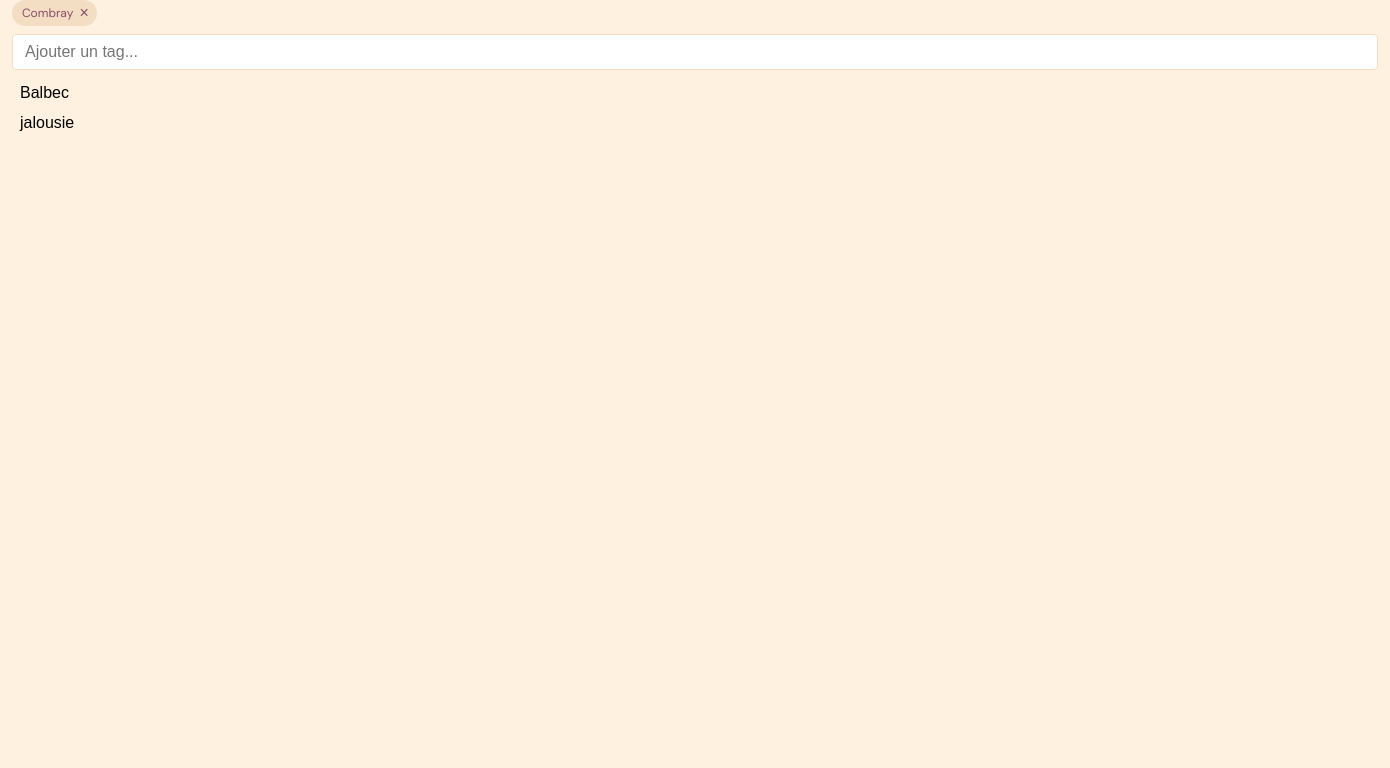
Test: shows an error toast when removing a tag fails
Click the button named "Retirer Combray".
click(84, 13)  # box [77,5,91,21]
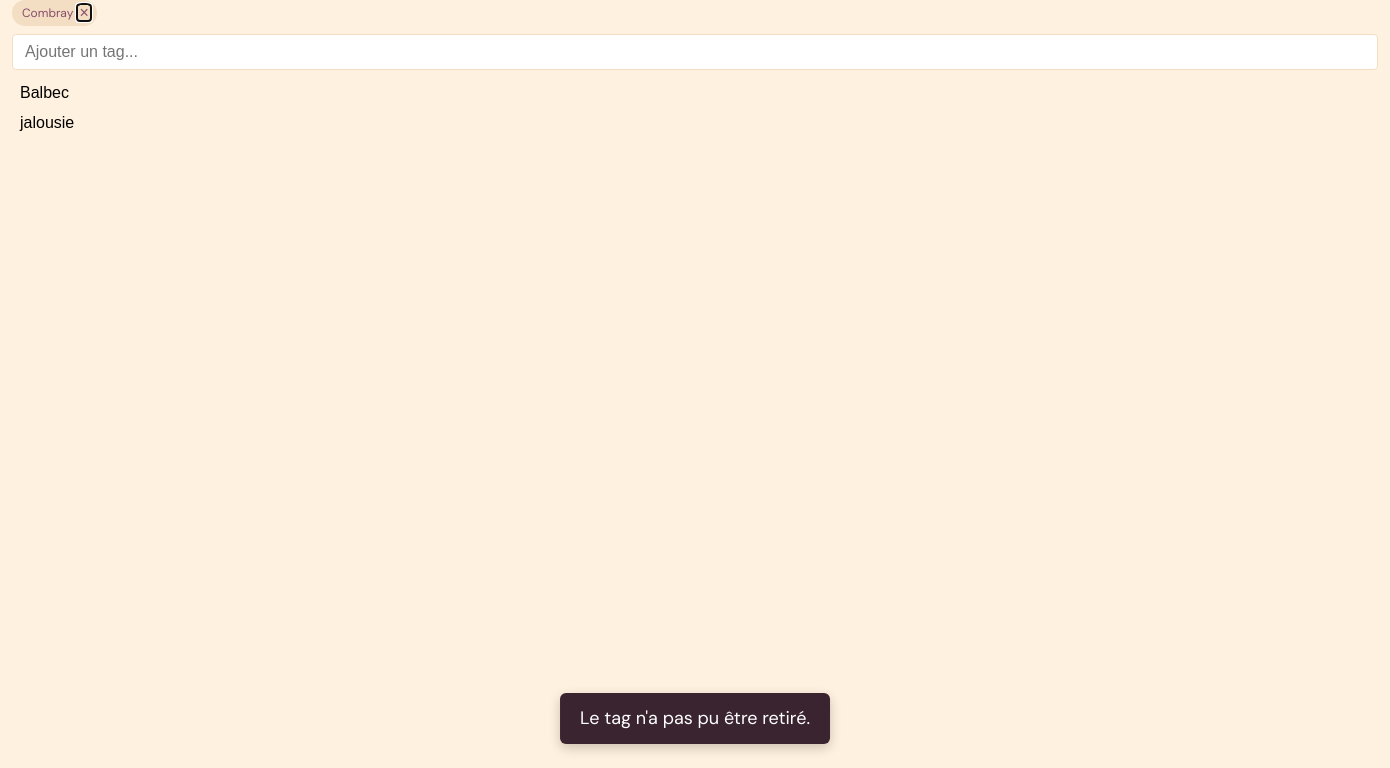
Now the text "Le tag n'a pas pu être retiré." is shown, box [560,693,830,744]
